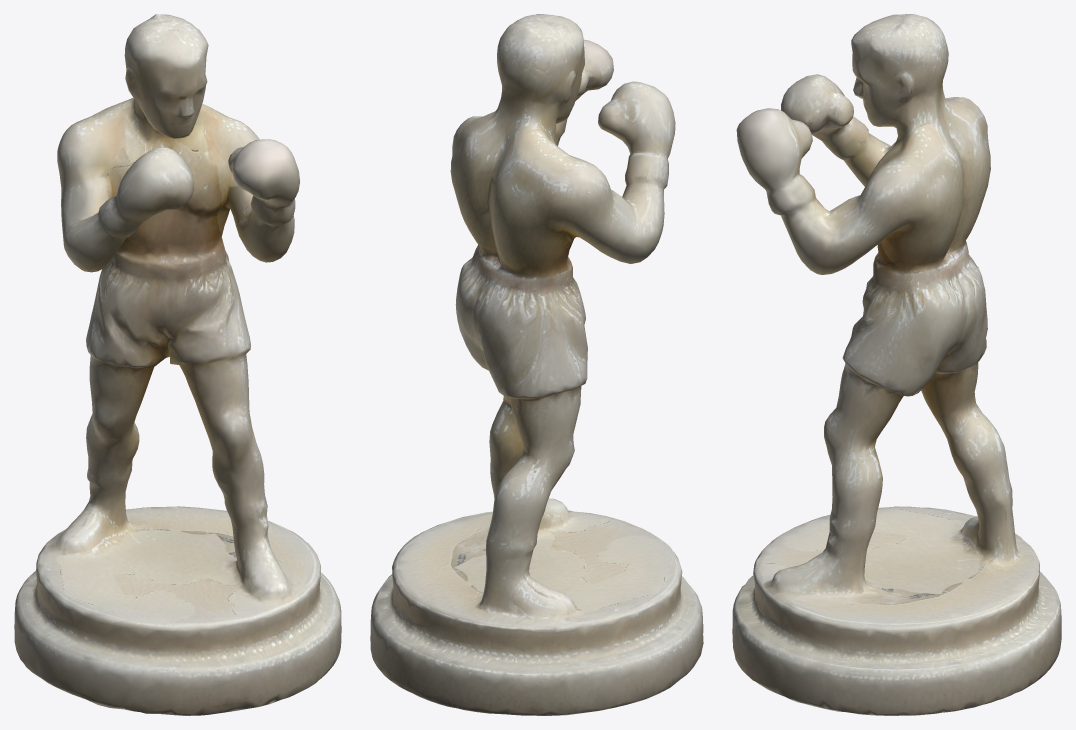
The model's file is draw_statue2_white.glb.
3 views of the same model, side by side, from view 1: azimuth 30°, elevation 25°; view 2: azimuth 150°, elevation 25°; view 3: azimuth 270°, elevation 25° (orthographic).
Parts seen in each view (by area): view 1: texture_mapping; view 2: texture_mapping; view 3: texture_mapping.
Boxes of the visible parts, x1,y1,x2,y2 form: texture_mapping: (14,14,341,715); texture_mapping: (370,14,703,715); texture_mapping: (732,14,1061,715).
Size of the model in its own units: 0.476 by 1 by 0.4757.
Materials: 1 (1 with a texture image).
